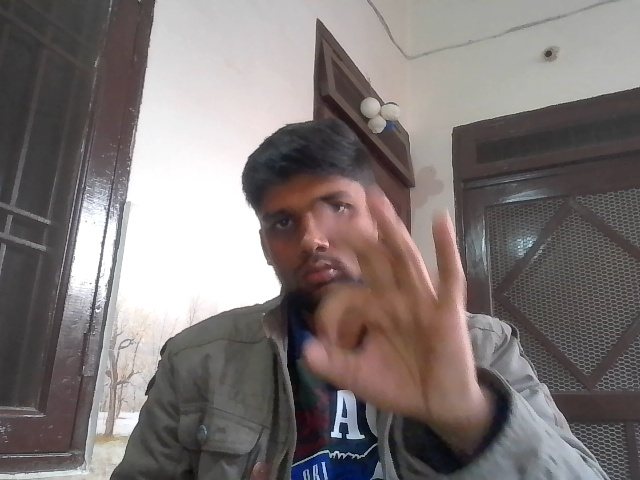Good: (276, 188, 480, 425)
